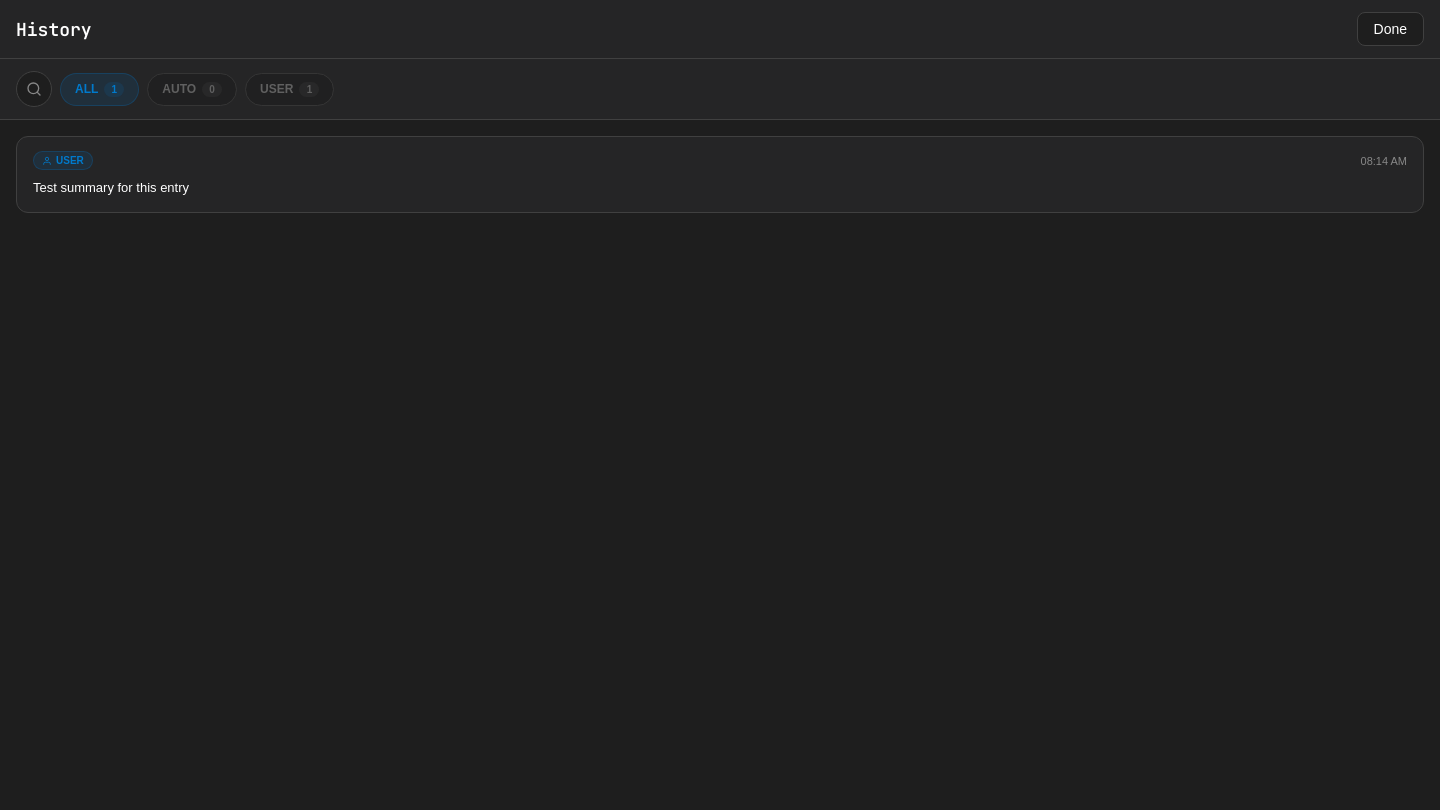
Test: MobileHistoryPanel › Empty state › shows filter-specific empty message
// Click AUTO filter
Click the button "AUTO 0". click: {"x": 192, "y": 89}
box: 147,72 -> 237,106
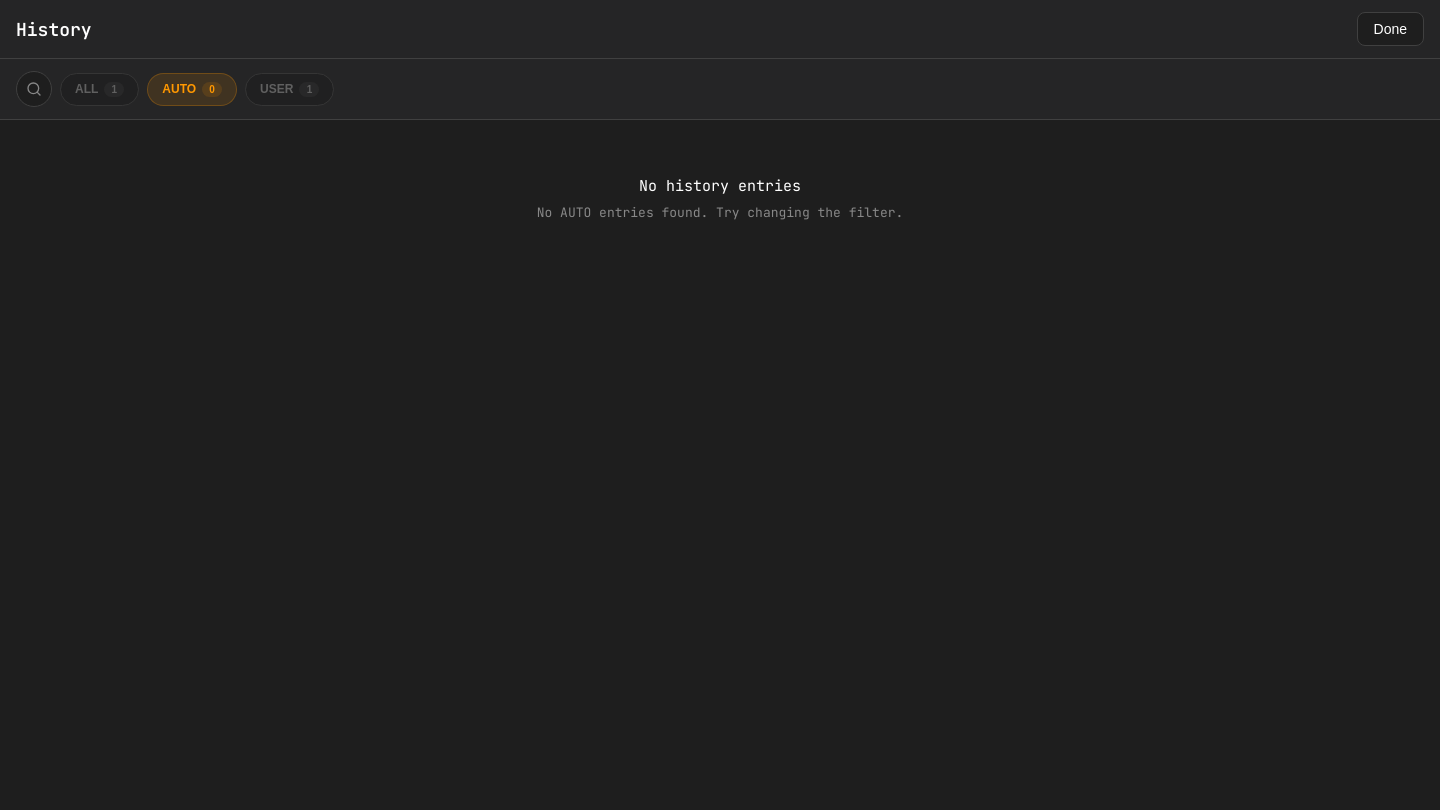
Expected: the text "No AUTO entries found. Try changing the filter." is shown, 537,204 -> 903,221
